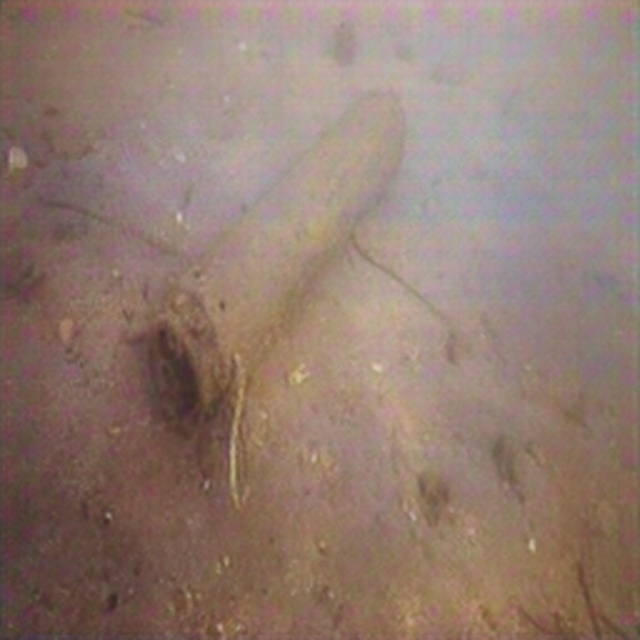mine: (146, 86, 407, 433)
